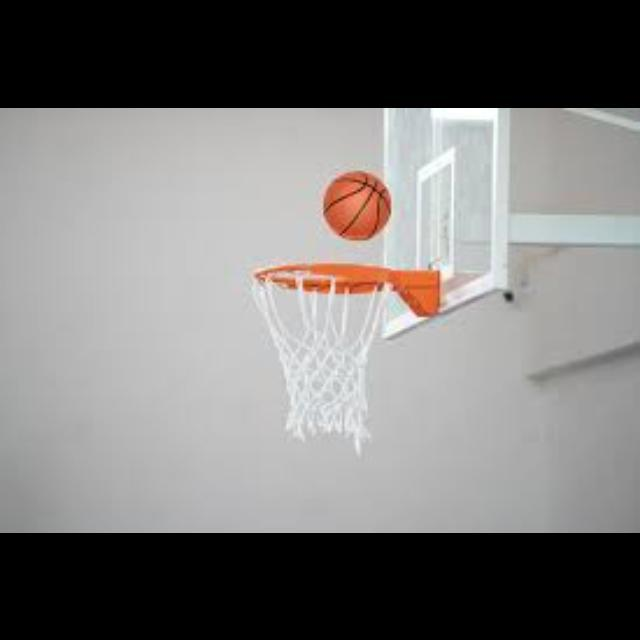basketball: (324, 170, 392, 240)
rim: (250, 262, 392, 428)
